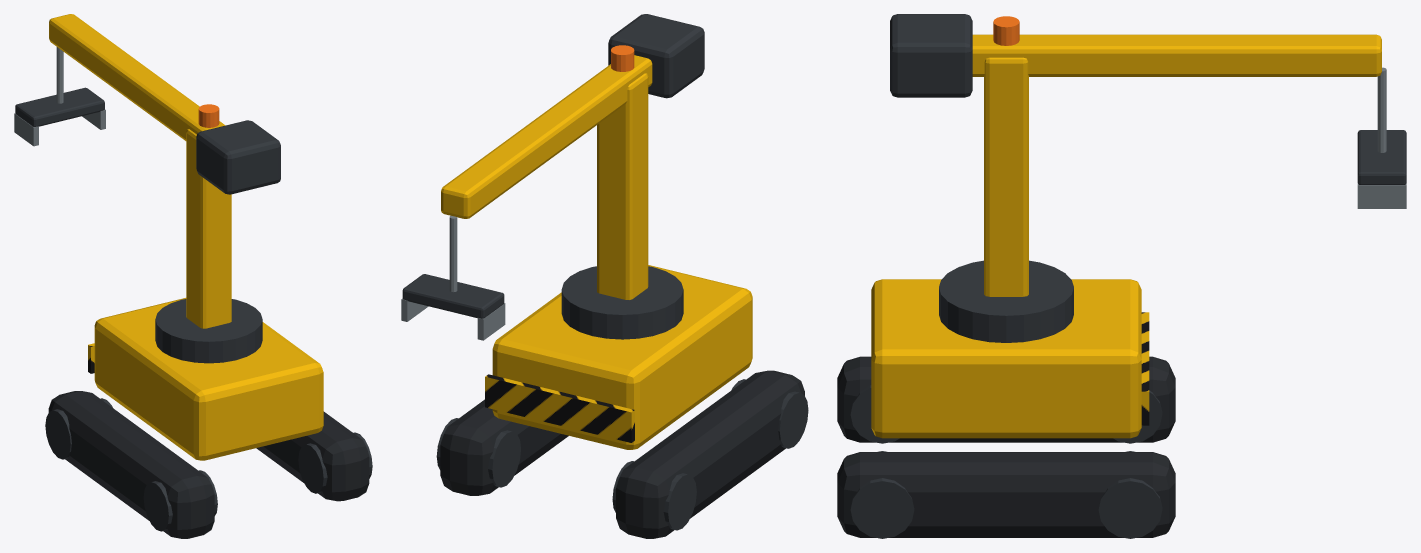
Rendered from robot.gltf.
The picture shows the model from 3 angles, left to right: view 1: azimuth 30°, elevation 25°; view 2: azimuth 150°, elevation 25°; view 3: azimuth 270°, elevation 25°; orthographic projection. The views are drawn at different scales.
Parts seen in each view (by area): view 1: RobotBase, RobotArm; view 2: RobotBase, RobotArm; view 3: RobotBase, RobotArm.
Boxes of the visible parts, left/top/right/bottom form: RobotBase: left=45, top=298, right=372, bottom=538; RobotArm: left=14, top=14, right=280, bottom=363; RobotBase: left=436, top=265, right=808, bottom=538; RobotArm: left=401, top=14, right=704, bottom=340; RobotBase: left=837, top=279, right=1175, bottom=538; RobotArm: left=890, top=14, right=1406, bottom=342.
Bounding box in the file's own units: 0.79 × 1.36 × 1.52.
Materials: 6 (1 with a texture image).
